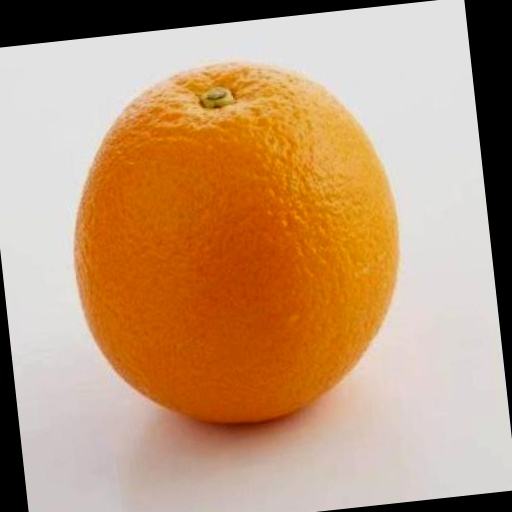fruit: (75, 64, 398, 422)
